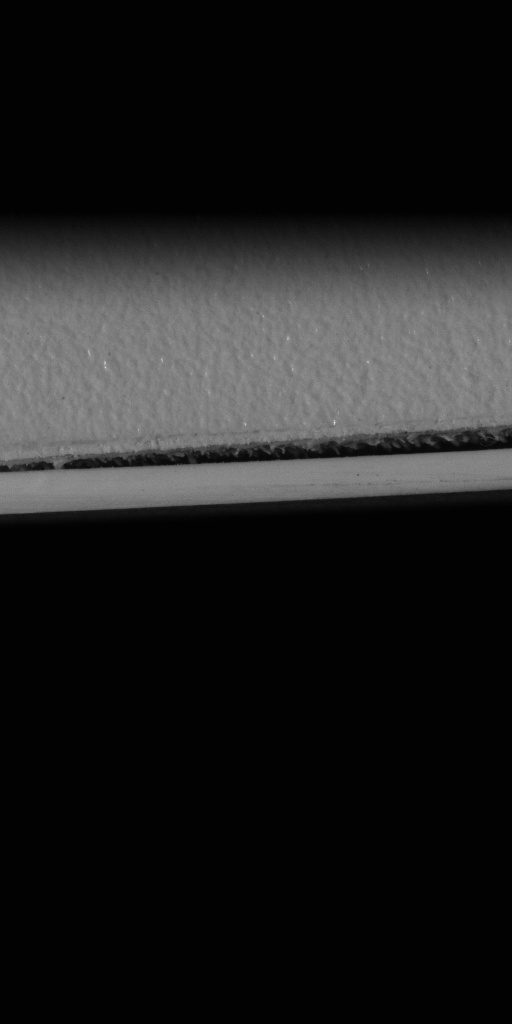kaijiao: (0, 415, 511, 519)
